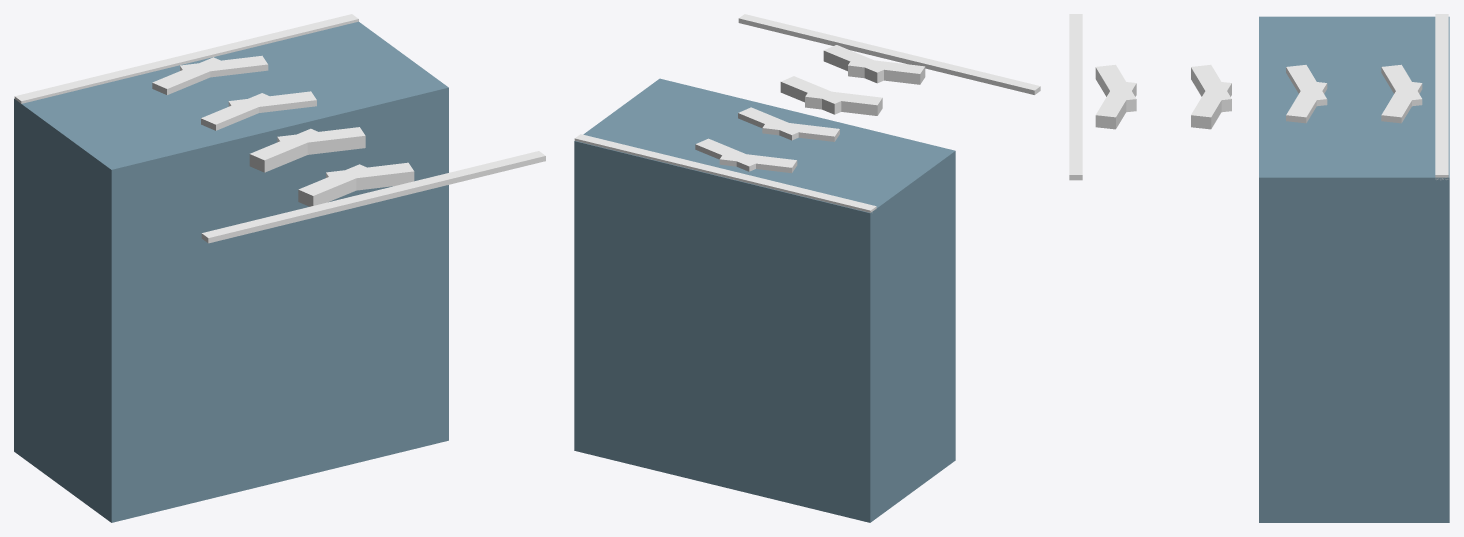
The model's file is Conveyor_VerticalSlab.glb.
3 views of the same model, side by side, from view 1: azimuth 30°, elevation 25°; view 2: azimuth 150°, elevation 25°; view 3: azimuth 270°, elevation 25° (orthographic). The views are drawn at different scales.
Parts seen in each view (by area): view 1: Conveyor_VerticalSlab_body, rail_-0.003, rail_0.003, chev_1_1.003, chev_0_1.003, chev_0_-1.003, chev_1_-1.003, chev_3_-1.003, chev_2_1.003, chev_3_1.003, chev_2_-1.003; view 2: Conveyor_VerticalSlab_body, rail_-0.003, rail_0.003, chev_1_1.003, chev_0_1.003, chev_0_-1.003, chev_3_1.003, chev_2_1.003, chev_1_-1.003, chev_3_-1.003, chev_2_-1.003; view 3: Conveyor_VerticalSlab_body, rail_-0.003, rail_0.003, chev_0_-1.003, chev_1_-1.003, chev_0_1.003, chev_1_1.003, chev_2_-1.003, chev_3_-1.003, chev_3_1.003, chev_2_1.003.
Boxes of the visible parts, box(x1,y1,x2,y2) form: Conveyor_VerticalSlab_body: box(14, 21, 448, 522); rail_-0.003: box(201, 151, 545, 243); rail_0.003: box(14, 14, 358, 103); chev_1_1.003: box(249, 128, 325, 172); chev_0_1.003: box(298, 164, 373, 206); chev_0_-1.003: box(326, 162, 414, 190); chev_1_-1.003: box(277, 127, 365, 154); chev_3_-1.003: box(180, 55, 268, 77); chev_2_1.003: box(201, 93, 276, 130); chev_3_1.003: box(152, 57, 226, 94); chev_2_-1.003: box(228, 91, 316, 112); Conveyor_VerticalSlab_body: box(574, 78, 955, 522); rail_-0.003: box(738, 14, 1040, 94); rail_0.003: box(574, 134, 876, 212); chev_1_1.003: box(805, 89, 882, 115); chev_0_1.003: box(848, 58, 925, 84); chev_0_-1.003: box(823, 45, 883, 83); chev_3_1.003: box(719, 152, 797, 173); chev_2_1.003: box(762, 121, 839, 141); chev_1_-1.003: box(780, 76, 846, 114); chev_3_-1.003: box(695, 138, 760, 171); chev_2_-1.003: box(738, 107, 804, 140); Conveyor_VerticalSlab_body: box(1259, 16, 1449, 522); rail_-0.003: box(1069, 14, 1082, 180); rail_0.003: box(1435, 14, 1448, 180); chev_0_-1.003: box(1095, 81, 1136, 129); chev_1_-1.003: box(1191, 81, 1231, 129); chev_0_1.003: box(1095, 64, 1136, 112); chev_1_1.003: box(1191, 64, 1231, 112); chev_2_-1.003: box(1286, 81, 1327, 123); chev_3_-1.003: box(1381, 81, 1422, 123); chev_3_1.003: box(1381, 64, 1422, 106); chev_2_1.003: box(1286, 65, 1327, 106).
Size of the model in its own units: 1 by 1.02 by 0.9975.
